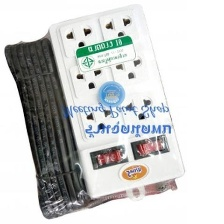three_eye_plug: (41, 0, 187, 205)
